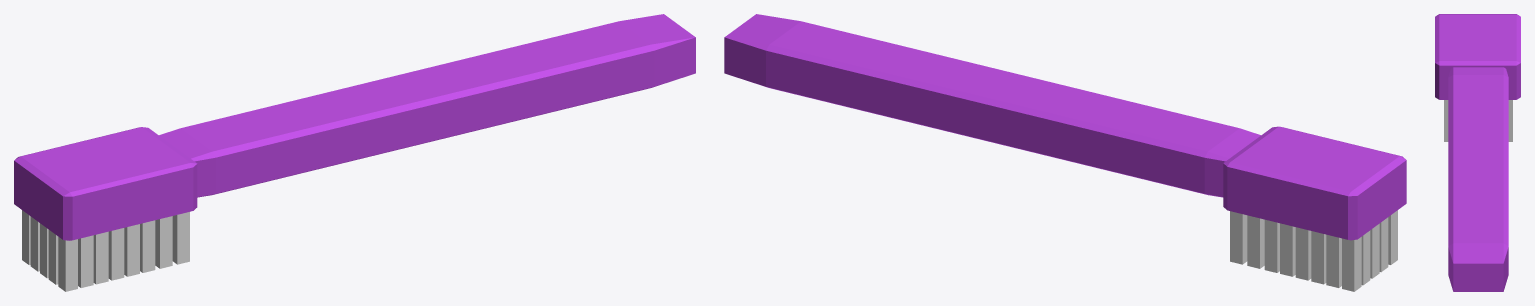
File: Escova Temp 1.fbx
3 renders of one model, left to right at view 1: azimuth 30°, elevation 25°; view 2: azimuth 150°, elevation 25°; view 3: azimuth 270°, elevation 25°, orthographic. The views are drawn at different scales.
Visible parts, largest first — view 1: Cube, Cube.001, Cube.034, Cube.040, Cube.041, Cube.037, Cube.038, Cube.035, Cube.036, Cube.039, Cube.026, Cube.010 (+2 smaller); view 2: Cube, Cube.001, Cube.002, Cube.008, Cube.009, Cube.005, Cube.007, Cube.004, Cube.003, Cube.006, Cube.018, Cube.026 (+2 smaller); view 3: Cube, Cube.001, Cube.009, Cube.041.
Part boxes in pixels (x1=…): Cube: x1=159, y1=14, x2=695, y2=197; Cube.001: x1=14, y1=127, x2=197, y2=240; Cube.034: x1=58, y1=237, x2=77, y2=291; Cube.040: x1=155, y1=216, x2=172, y2=268; Cube.041: x1=172, y1=212, x2=189, y2=264; Cube.037: x1=108, y1=228, x2=124, y2=280; Cube.038: x1=124, y1=224, x2=139, y2=276; Cube.035: x1=78, y1=235, x2=93, y2=287; Cube.036: x1=93, y1=231, x2=108, y2=284; Cube.039: x1=140, y1=220, x2=155, y2=272; Cube.026: x1=48, y1=230, x2=58, y2=284; Cube.010: x1=30, y1=216, x2=39, y2=271; Cube: x1=724, y1=14, x2=1260, y2=197; Cube.001: x1=1223, y1=126, x2=1406, y2=240; Cube.002: x1=1342, y1=237, x2=1361, y2=291; Cube.008: x1=1247, y1=215, x2=1264, y2=268; Cube.009: x1=1230, y1=211, x2=1247, y2=264; Cube.005: x1=1295, y1=227, x2=1311, y2=280; Cube.007: x1=1264, y1=219, x2=1279, y2=272; Cube.004: x1=1311, y1=231, x2=1326, y2=284; Cube.003: x1=1326, y1=234, x2=1341, y2=287; Cube.006: x1=1280, y1=223, x2=1295, y2=276; Cube.018: x1=1370, y1=223, x2=1379, y2=278; Cube.026: x1=1379, y1=217, x2=1388, y2=272; Cube: x1=1448, y1=67, x2=1508, y2=291; Cube.001: x1=1435, y1=14, x2=1520, y2=99; Cube.009: x1=1508, y1=100, x2=1512, y2=141; Cube.041: x1=1444, y1=100, x2=1448, y2=141.
Size of the model in its own units: 91.55 by 13.84 by 13.45.
